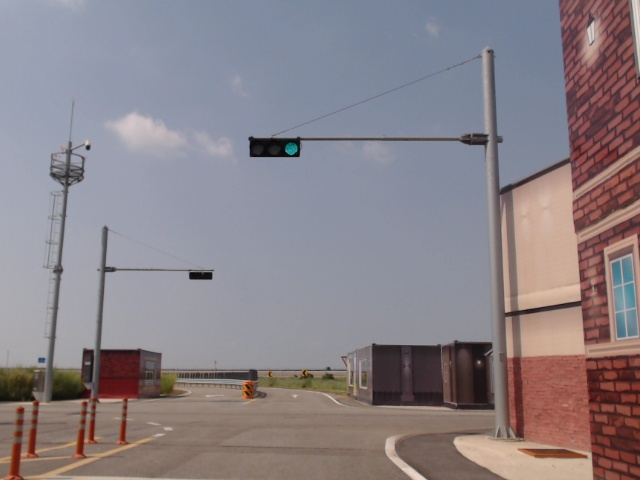green_3: (249, 138, 301, 157)
